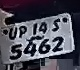1: (31, 21, 38, 36)
2: (52, 36, 65, 54)
4: (26, 42, 38, 59), (38, 21, 49, 35)
5: (7, 42, 23, 61)
6: (38, 37, 51, 55)
P: (16, 25, 28, 40)
S: (51, 17, 60, 32)
U: (7, 25, 18, 41)
